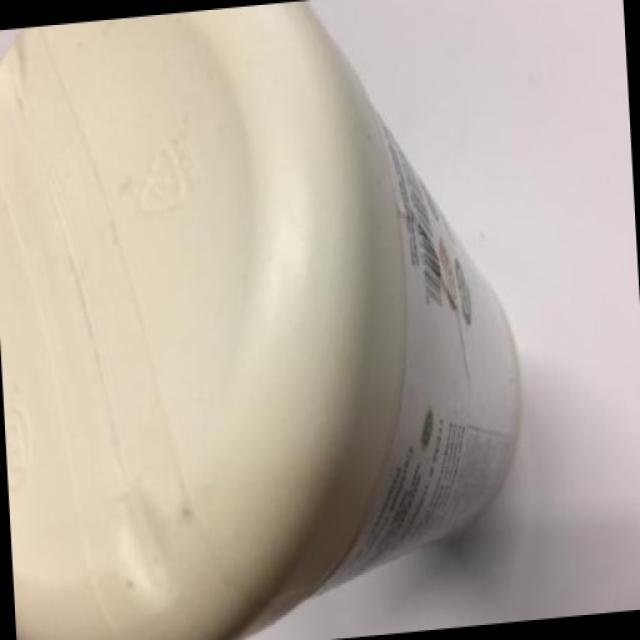plastico: (7, 18, 560, 608)
